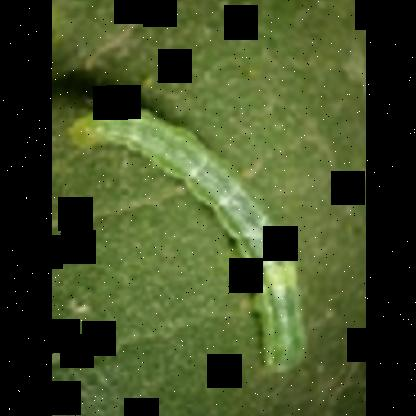oruga: (65, 88, 313, 378)
